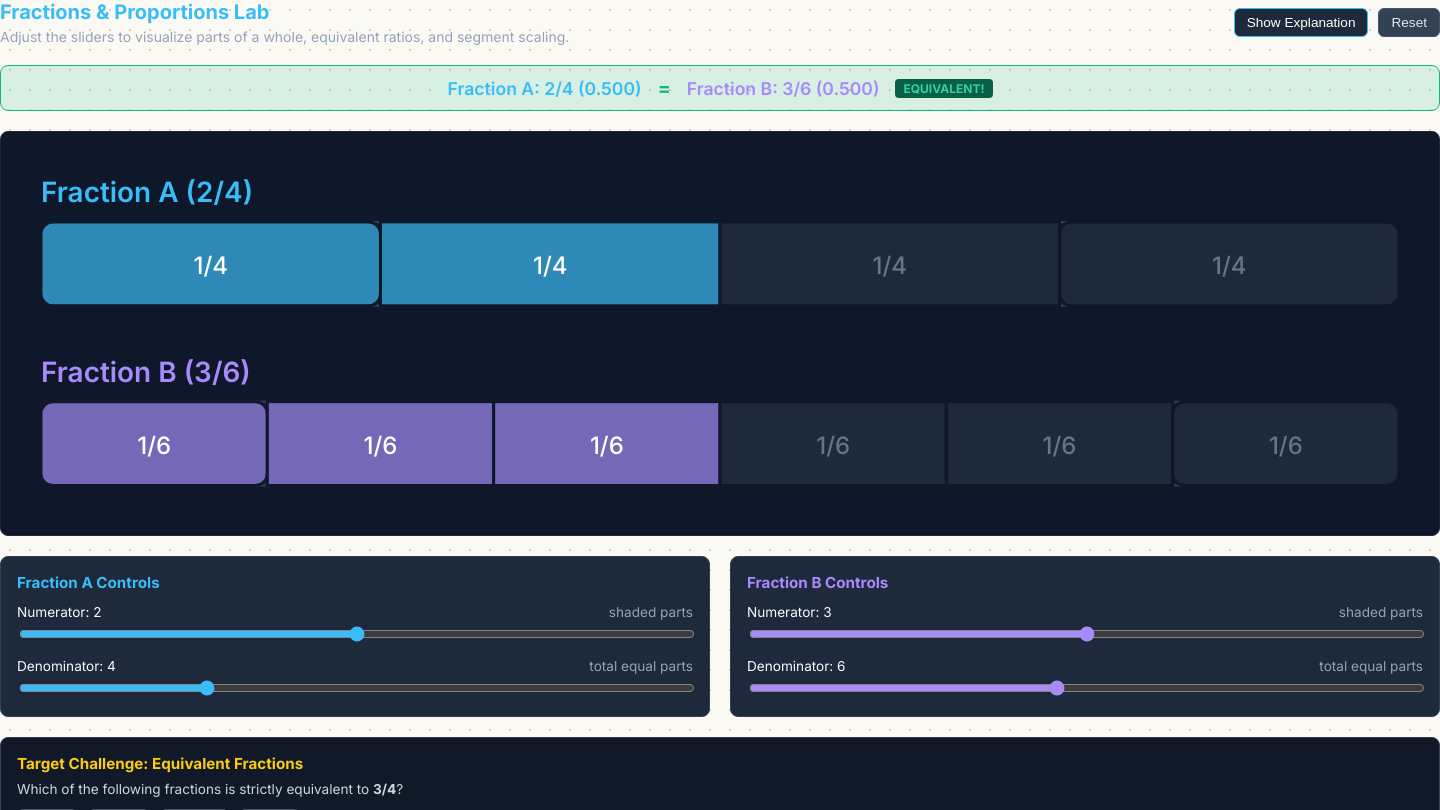
Test: Interactive Learning Lab (What-If Lab) › FractionsLab renders fraction strips, sliders, and handles challenge
The image size is (1440, 810).
Expected: the heading "Fractions & Proportions Lab" is shown, [0, 0, 269, 24]
Expected: the text "Fraction A: 2/4 (0.500)" is shown, [448, 78, 642, 98]
Toggle explanation
What coordinates should you click on to do the following:
click the button "Show Explanation"
I would click on:
 (1301, 22)
Its box is [1234, 8, 1368, 37].
(page scrolled)
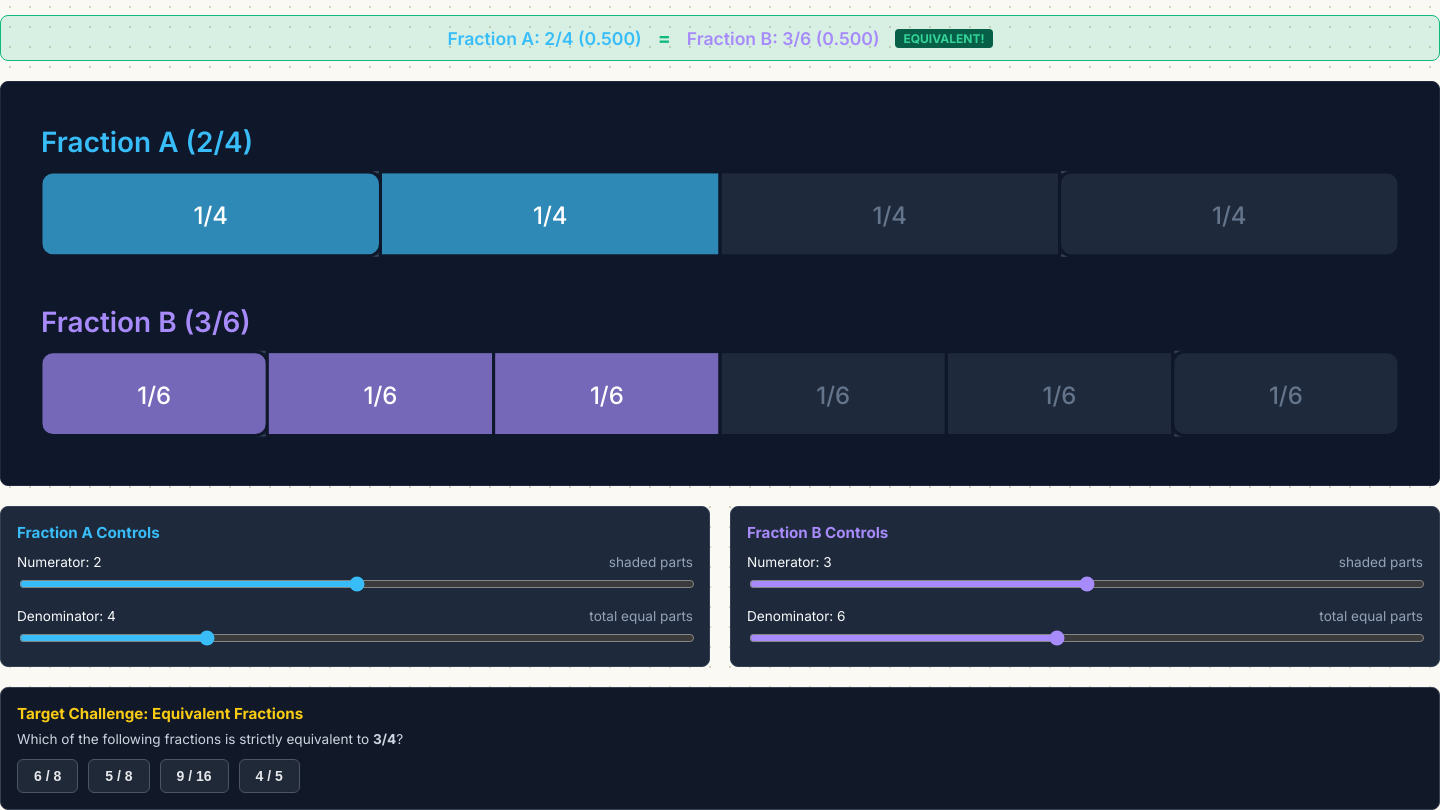
Challenge check
What coordinates should you click on to do the following:
click the button "6 / 8"
I would click on:
 (48, 776)
Its box is [17, 760, 78, 794].
(page scrolled)
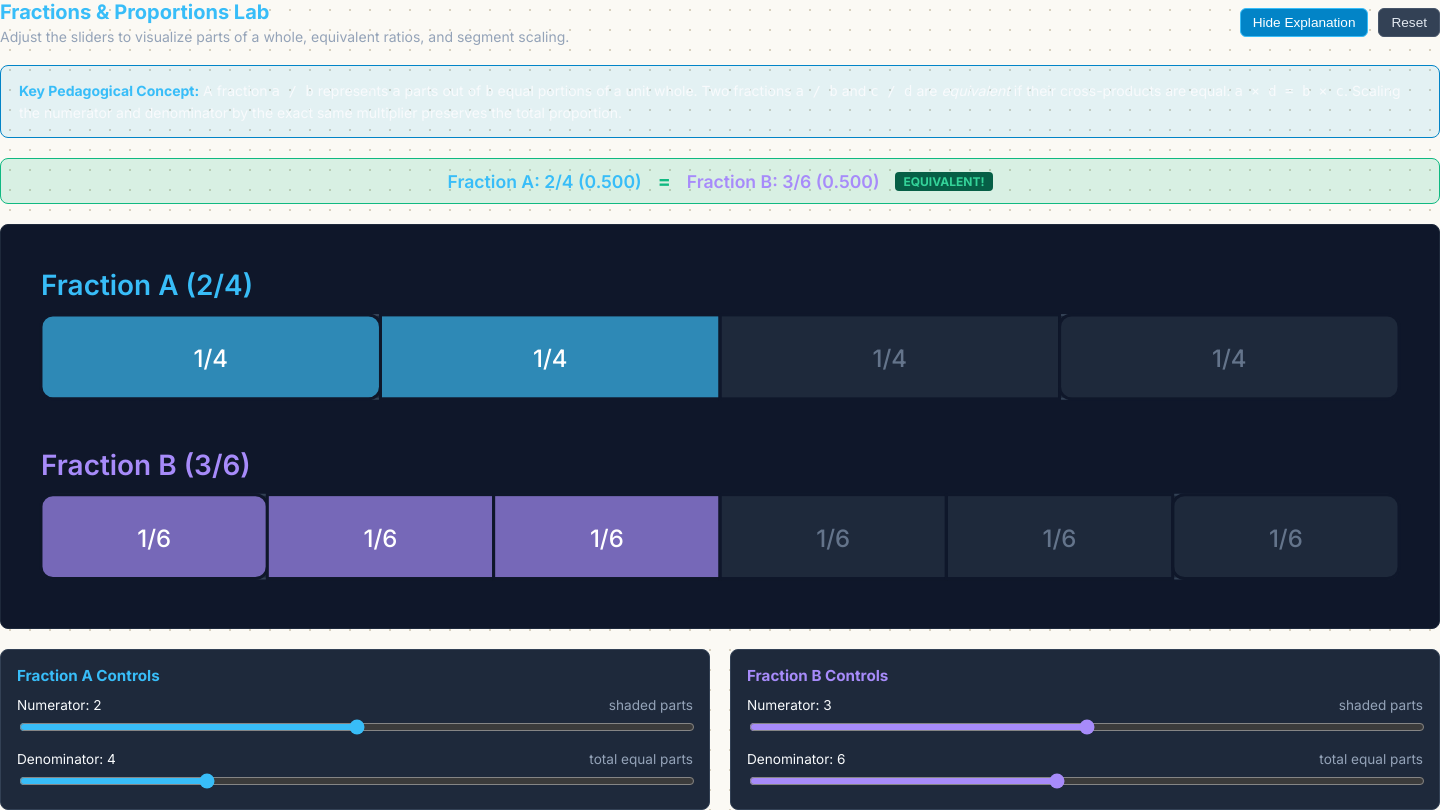
Reset button
What coordinates should you click on to do the following:
click the button "Reset"
I would click on:
 (1409, 22)
Its box is [1378, 8, 1439, 37].
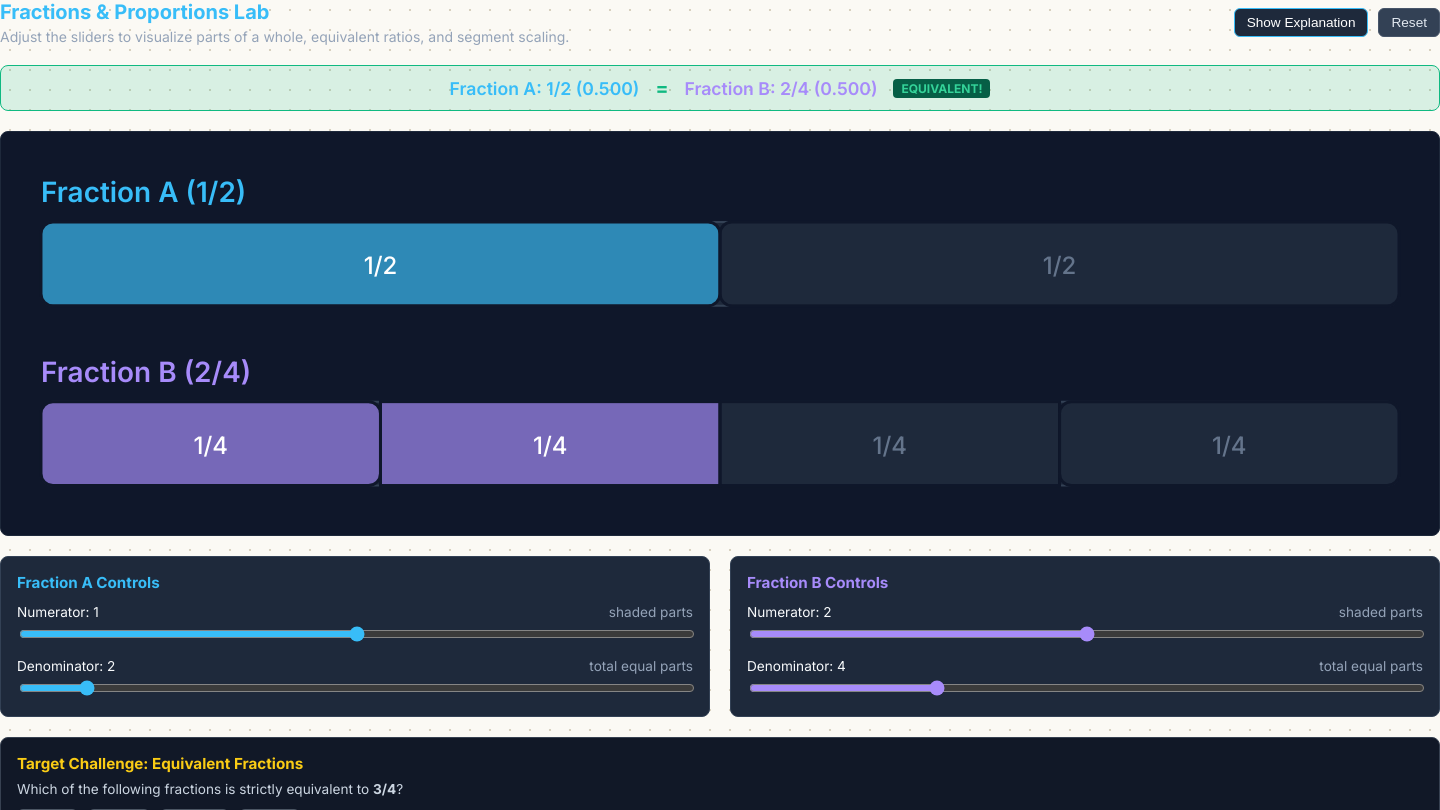
Expected: the text "Key Pedagogical Concept:" is gone
